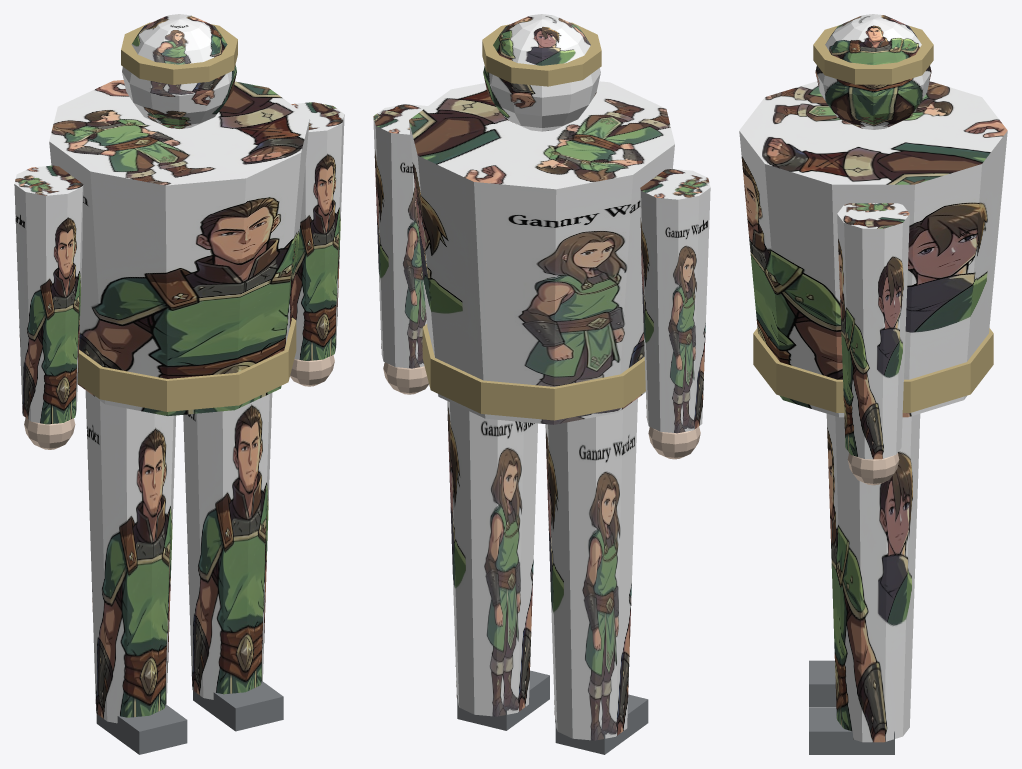
The picture shows the model from 3 angles, left to right: view 1: azimuth 30°, elevation 25°; view 2: azimuth 150°, elevation 25°; view 3: azimuth 270°, elevation 25°; orthographic projection. The views are drawn at different scales.
Visible parts, largest first — view 1: torso, thighR, thighL, armR, armL, head, belt, band, footR, footL, handR, handL; view 2: torso, thighR, thighL, armR, armL, head, belt, band, footR, footL, handR, handL; view 3: torso, thighL, armL, head, belt, band, footL, footR, handL.
Boxes of the visible parts, box(x1,y1,x2,y2) form: torso: box(49, 80, 309, 415); thighR: box(85, 390, 176, 723); thighL: box(183, 393, 272, 699); armR: box(14, 165, 83, 424); armL: box(291, 102, 344, 360); head: box(122, 14, 236, 128); belt: box(77, 317, 296, 411); band: box(121, 22, 237, 84); footR: box(96, 704, 187, 754); footL: box(193, 681, 283, 731); handR: box(24, 418, 75, 449); handL: box(290, 355, 334, 386); torso: box(409, 81, 674, 424); thighR: box(545, 398, 637, 740); thighL: box(447, 401, 537, 716); armR: box(640, 168, 710, 433); armL: box(373, 104, 427, 368); head: box(483, 14, 600, 131); belt: box(422, 324, 645, 420); band: box(482, 22, 601, 86); footR: box(555, 694, 648, 754); footL: box(457, 670, 549, 730); handR: box(648, 426, 700, 459); handL: box(383, 362, 428, 394); torso: box(739, 81, 1007, 417); thighL: box(826, 414, 920, 742); armL: box(837, 203, 909, 459); head: box(815, 14, 931, 129); belt: box(753, 328, 993, 412); band: box(813, 25, 933, 84); footL: box(809, 708, 894, 754); footR: box(809, 660, 836, 707); handL: box(847, 453, 899, 485).
Bounding box in the file's own units: 0.8627 × 1.79 × 0.624.
Materials: 4 (1 with a texture image).
